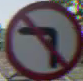Don't turn left: (6, 9, 71, 69)
